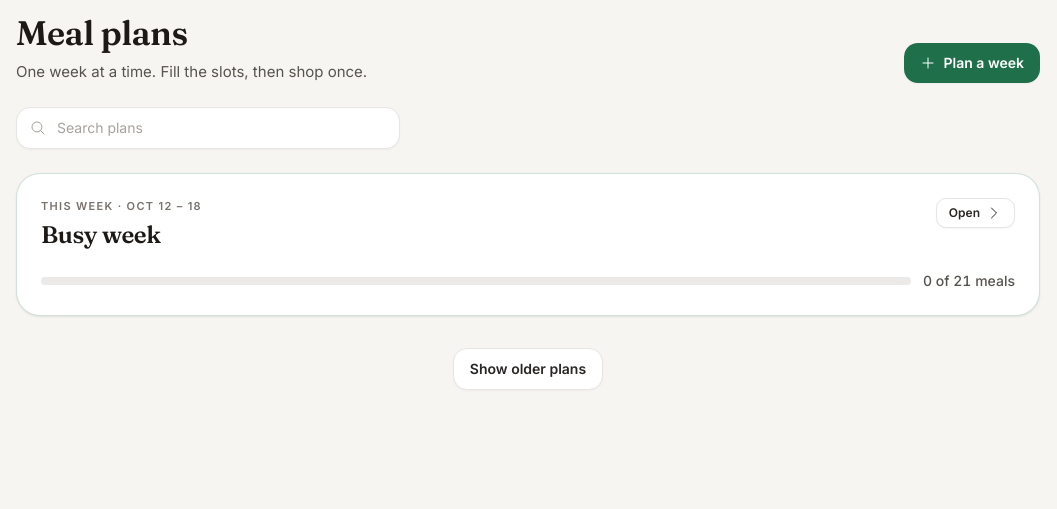
Test: MealPlansPage › loads older plans on demand
This screenshot has width=1057, height=509.
Click the button "Show older plans" at coordinates (528, 368), box [453,348,603,390]
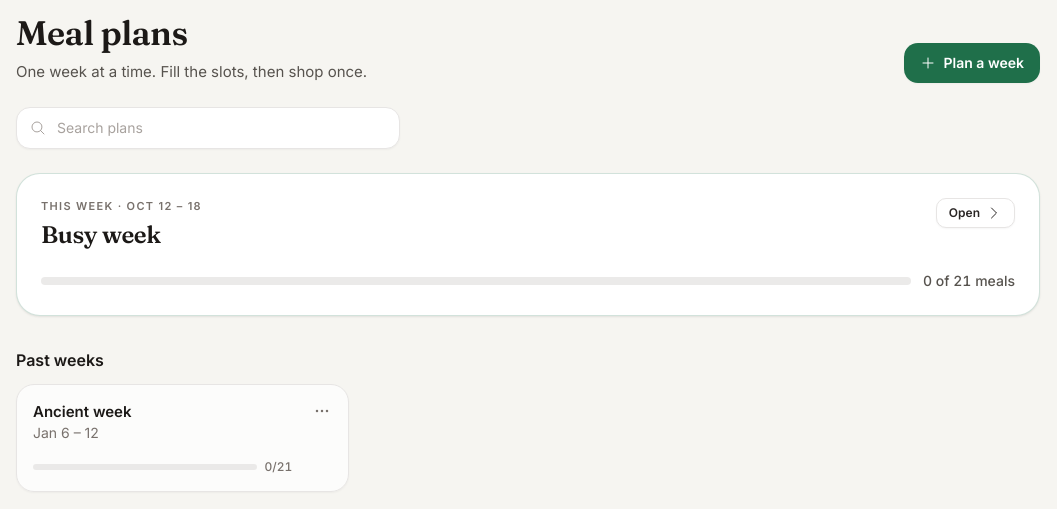
Expected: the heading "Busy week" is shown, [41,220,161,248]
Now the text "Ancient week" is shown, box [33,402,132,420]
